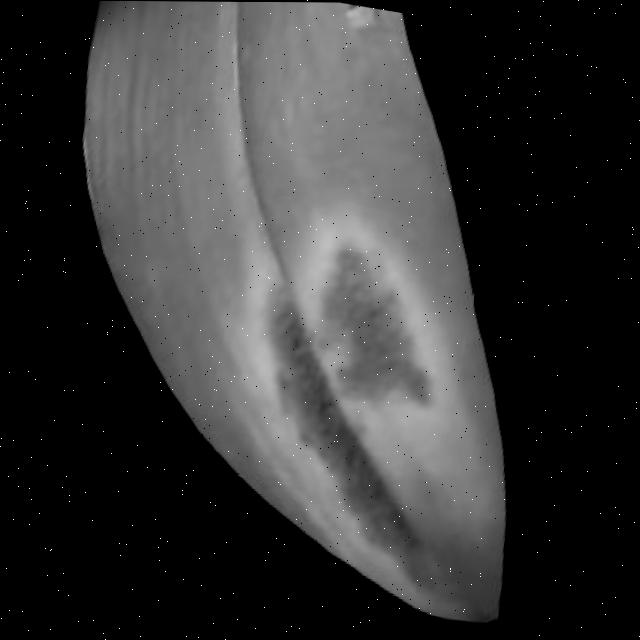mite: (338, 2, 381, 29), (343, 2, 366, 12)
spots: (0, 1, 618, 632)
sunburn: (207, 219, 524, 604)
